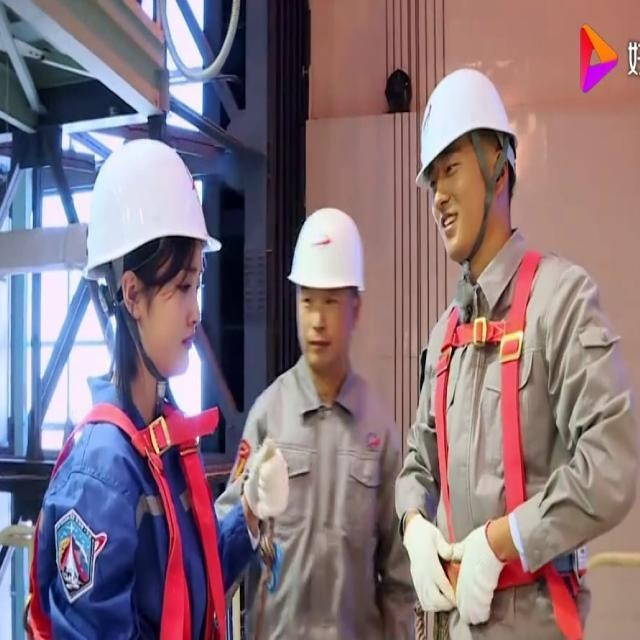Arnes_seguridad: (426, 234, 588, 619), (21, 388, 233, 639)
